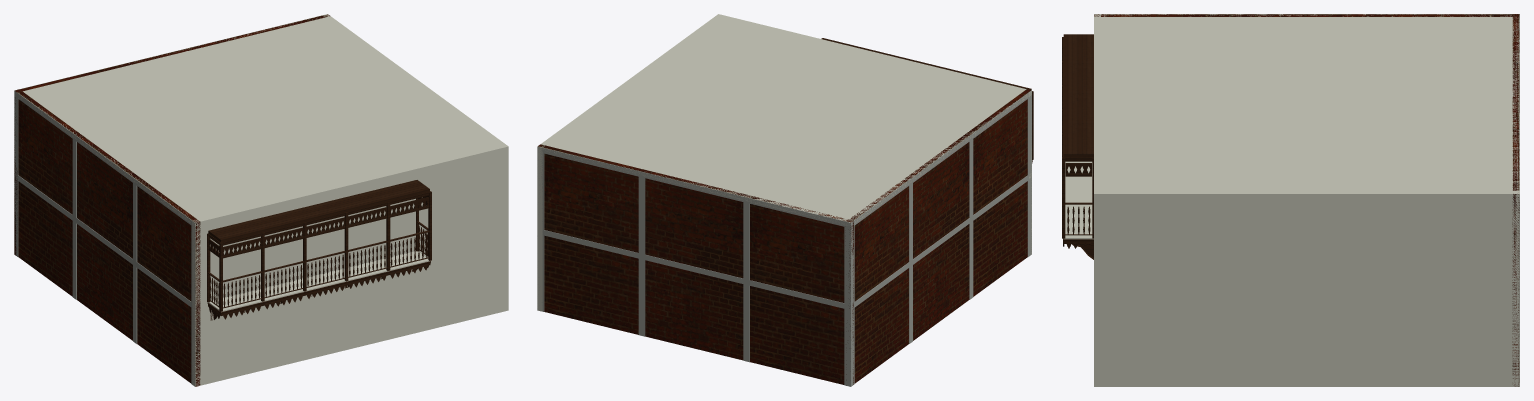
File: building.glb
3 renders of one model, left to right at view 1: azimuth 30°, elevation 25°; view 2: azimuth 150°, elevation 25°; view 3: azimuth 270°, elevation 25°, orthographic. The views are drawn at different scales.
Visible parts, largest first — view 1: roof/house:0/roof_slab#0001, house:0/edge0/z0/house:0/edge0/z0/wall_0_0, house:0/edge3/z0/house:0/edge3/z0/wall_0_0, balcony/sample/balcony_cover#0001, balcony/sample/balcony_platform#0001, house:0/edge2/z0/house:0/edge2/z0/wall_0_0, house:0/edge3/z0/house:0/edge3/z0/beam_0_0, house:0/edge3/z0/house:0/edge3/z0/beam_1_0, house:0/edge1/z0/house:0/edge1/z0/wall_0_0, balcony/sample/balcony_cover_cornice#0001, balcony/sample/balcony_fascia#0001, balcony/sample/balcony_handrail#0001 (+5 smaller); view 2: roof/house:0/roof_slab#0001, house:0/edge2/z0/house:0/edge2/z0/wall_0_0, house:0/edge3/z0/house:0/edge3/z0/wall_0_0, house:0/edge1/z0/house:0/edge1/z0/wall_0_0, house:0/edge2/z0/house:0/edge2/z0/beam_0_0, house:0/edge2/z0/house:0/edge2/z0/beam_1_0, house:0/edge3/z0/house:0/edge3/z0/beam_0_0, house:0/edge0/z0/house:0/edge0/z0/wall_0_0, house:0/edge3/z0/house:0/edge3/z0/beam_1_0, house:0/edge2/z0/house:0/edge2/z0/column_2_0, house:0/edge2/z0/house:0/edge2/z0/column_1_1, house:0/edge2/z0/house:0/edge2/z0/column_2_1 (+4 smaller); view 3: house:0/edge1/z0/house:0/edge1/z0/wall_0_0, roof/house:0/roof_slab#0001, balcony/sample/balcony_cover#0001, house:0/edge0/z0/house:0/edge0/z0/wall_0_0, house:0/edge2/z0/house:0/edge2/z0/wall_0_0, balcony/sample/balcony_platform#0001, house:0/edge3/z0/house:0/edge3/z0/wall_0_0.
Boxes of the visible parts, <box> form: roof/house:0/roof_slab#0001: <box>16,15,507,225</box>; house:0/edge0/z0/house:0/edge0/z0/wall_0_0: <box>192,144,508,386</box>; house:0/edge3/z0/house:0/edge3/z0/wall_0_0: <box>17,89,200,386</box>; balcony/sample/balcony_cover#0001: <box>208,180,429,242</box>; balcony/sample/balcony_platform#0001: <box>208,251,429,312</box>; house:0/edge2/z0/house:0/edge2/z0/wall_0_0: <box>14,14,329,255</box>; house:0/edge3/z0/house:0/edge3/z0/beam_0_0: <box>14,173,195,309</box>; house:0/edge3/z0/house:0/edge3/z0/beam_1_0: <box>14,91,195,228</box>; house:0/edge1/z0/house:0/edge1/z0/wall_0_0: <box>323,14,508,311</box>; balcony/sample/balcony_cover_cornice#0001: <box>208,192,429,245</box>; balcony/sample/balcony_fascia#0001: <box>207,261,430,315</box>; balcony/sample/balcony_handrail#0001: <box>208,221,429,282</box>; roof/house:0/roof_slab#0001: <box>540,14,1031,225</box>; house:0/edge2/z0/house:0/edge2/z0/wall_0_0: <box>538,144,853,384</box>; house:0/edge3/z0/house:0/edge3/z0/wall_0_0: <box>846,89,1030,383</box>; house:0/edge1/z0/house:0/edge1/z0/wall_0_0: <box>537,14,721,311</box>; house:0/edge2/z0/house:0/edge2/z0/beam_0_0: <box>542,230,851,310</box>; house:0/edge2/z0/house:0/edge2/z0/beam_1_0: <box>538,146,851,228</box>; house:0/edge3/z0/house:0/edge3/z0/beam_0_0: <box>850,172,1031,309</box>; house:0/edge0/z0/house:0/edge0/z0/wall_0_0: <box>716,14,1031,253</box>; house:0/edge3/z0/house:0/edge3/z0/beam_1_0: <box>850,90,1031,227</box>; house:0/edge2/z0/house:0/edge2/z0/column_2_0: <box>638,177,645,254</box>; house:0/edge2/z0/house:0/edge2/z0/column_1_1: <box>844,227,851,304</box>; house:0/edge2/z0/house:0/edge2/z0/column_2_1: <box>638,259,645,336</box>; house:0/edge1/z0/house:0/edge1/z0/wall_0_0: <box>1094,191,1519,386</box>; roof/house:0/roof_slab#0001: <box>1094,14,1519,198</box>; balcony/sample/balcony_cover#0001: <box>1063,34,1093,157</box>; house:0/edge0/z0/house:0/edge0/z0/wall_0_0: <box>1094,14,1100,386</box>; house:0/edge2/z0/house:0/edge2/z0/wall_0_0: <box>1512,14,1519,386</box>; balcony/sample/balcony_platform#0001: <box>1064,161,1093,239</box>; house:0/edge3/z0/house:0/edge3/z0/wall_0_0: <box>1094,14,1519,16</box>.
Size of the model in its own units: 12 by 6 by 12.89.
4 materials, 2 textured.
